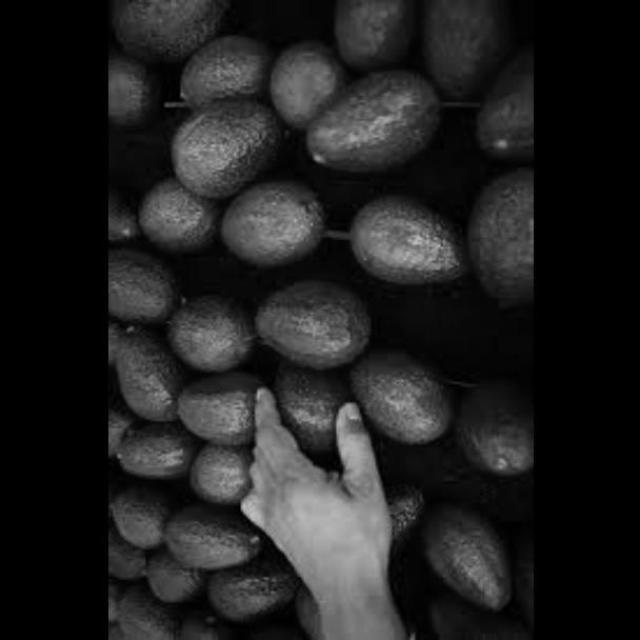bo: (319, 191, 464, 302), (298, 77, 441, 184), (411, 498, 511, 639), (403, 0, 531, 99), (246, 275, 362, 382), (445, 372, 532, 512), (344, 331, 446, 444), (170, 100, 281, 193), (223, 173, 316, 282), (314, 0, 431, 80), (105, 0, 238, 69), (465, 40, 531, 177), (130, 168, 224, 259), (160, 508, 269, 584), (468, 186, 532, 315), (162, 38, 253, 120), (106, 244, 185, 335), (166, 379, 266, 448), (111, 329, 180, 428), (263, 32, 335, 126), (151, 289, 236, 368), (167, 438, 252, 509), (115, 431, 192, 493), (106, 586, 178, 639), (106, 496, 155, 565), (106, 53, 147, 134)
